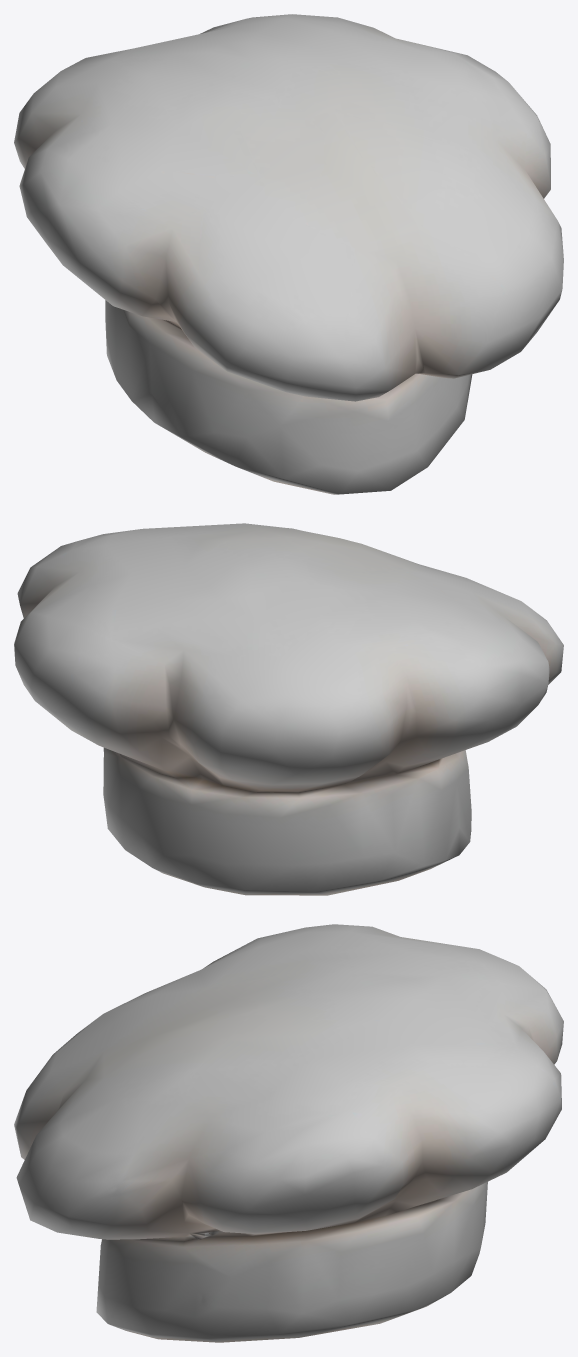
File: Player_Cap.fbx
The picture shows the model from 3 angles, top to bottom: view 1: azimuth 30°, elevation 25°; view 2: azimuth 150°, elevation 25°; view 3: azimuth 270°, elevation 25°; orthographic projection.
Visible parts, largest first — view 1: tripo_node_f23d39b4; view 2: tripo_node_f23d39b4; view 3: tripo_node_f23d39b4.
Part boxes in pixels (x1,y1,x2,y2): tripo_node_f23d39b4: (14,14,563,494); tripo_node_f23d39b4: (14,523,563,895); tripo_node_f23d39b4: (14,924,563,1342).
Bounding box in the file's own units: 99.82 × 67 × 101.
